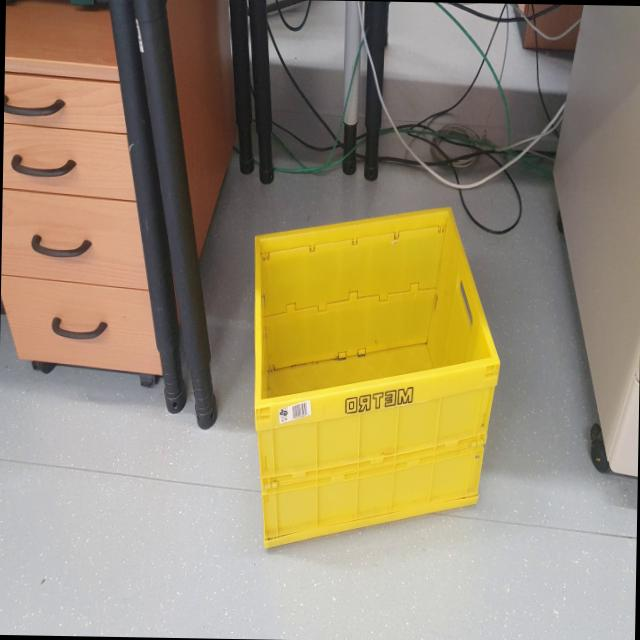box: (242, 187, 507, 568)
